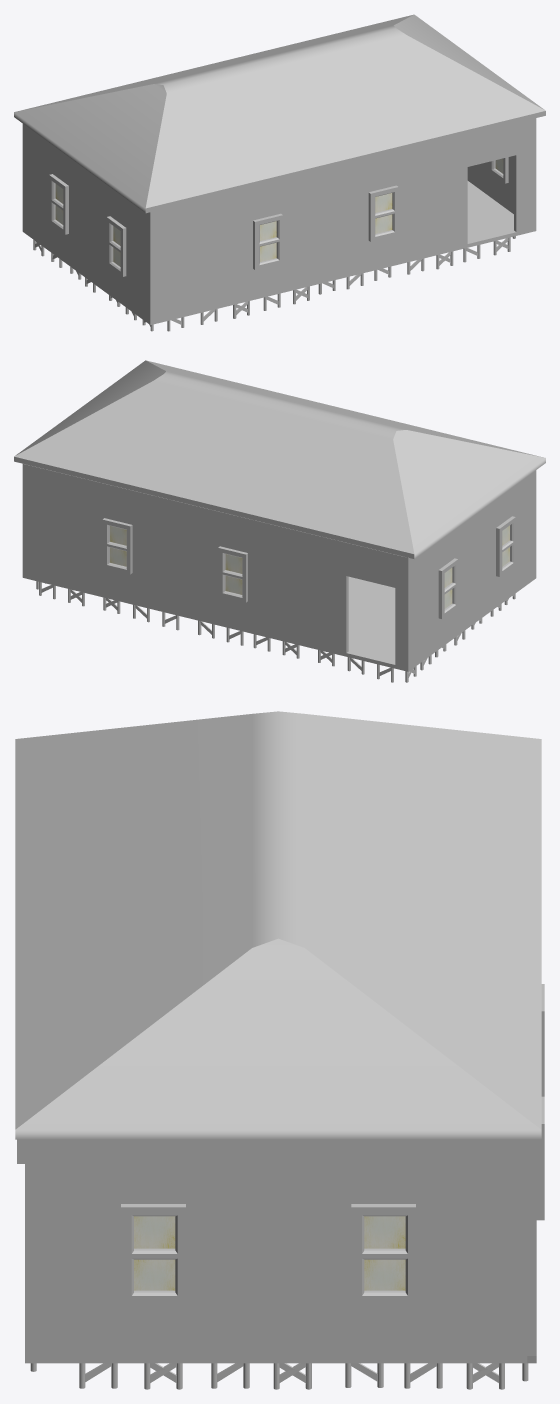
File: casinha.fbx
3 renders of one model, top to bottom at view 1: azimuth 30°, elevation 25°; view 2: azimuth 150°, elevation 25°; view 3: azimuth 270°, elevation 25°, orthographic. The views are drawn at different scales.
Visible parts, largest first — view 1: group4_Casa; view 2: group4_Casa; view 3: group4_Casa.
Boxes of the visible parts, x1,y1,x2,y2 form: group4_Casa: (14, 14, 545, 331); group4_Casa: (14, 360, 545, 682); group4_Casa: (15, 711, 544, 1389).
Size of the model in its own units: 86.08 by 39.2 by 49.29.
